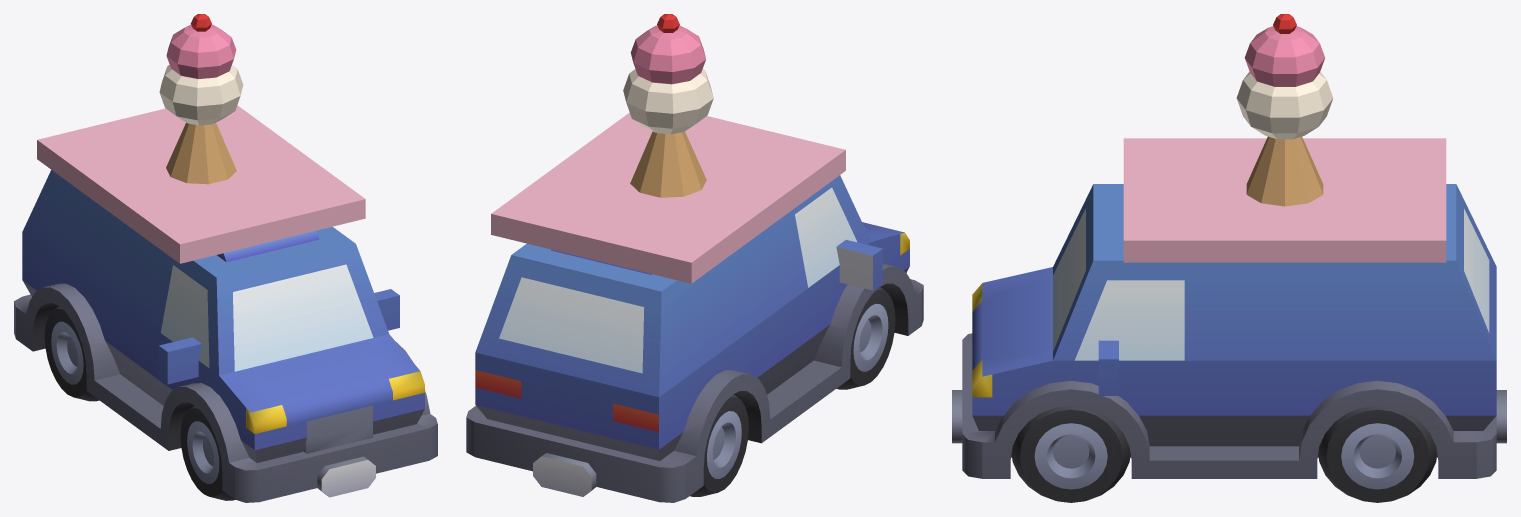
Rendered from glassbil.glb.
3 renders of one model, left to right at view 1: azimuth 30°, elevation 25°; view 2: azimuth 150°, elevation 25°; view 3: azimuth 270°, elevation 25°, orthographic. The views are drawn at different scales.
Visible parts, largest first — view 1: body, till-glassbil, wheel-front-right, wheel-back-right; view 2: body, till-glassbil, wheel-back-right, wheel-front-right; view 3: body, till-glassbil, wheel-front-left, wheel-back-left.
Boxes of the visible parts, left/top/right/bottom form: body: left=14, top=170, right=437, bottom=502; till-glassbil: left=37, top=14, right=365, bottom=263; wheel-front-right: left=180, top=405, right=235, bottom=500; wheel-back-right: left=44, top=306, right=99, bottom=401; body: left=466, top=175, right=923, bottom=502; till-glassbil: left=491, top=14, right=845, bottom=283; wheel-back-right: left=690, top=394, right=748, bottom=496; wheel-front-right: left=836, top=287, right=895, bottom=389; body: left=952, top=184, right=1506, bottom=478; till-glassbil: left=1123, top=14, right=1446, bottom=262; wheel-front-left: left=1011, top=406, right=1130, bottom=502; wheel-back-left: left=1318, top=406, right=1437, bottom=502.
Size of the model in its own units: 1.5 by 2.44 by 2.75.
Materials: 6 (1 with a texture image).
